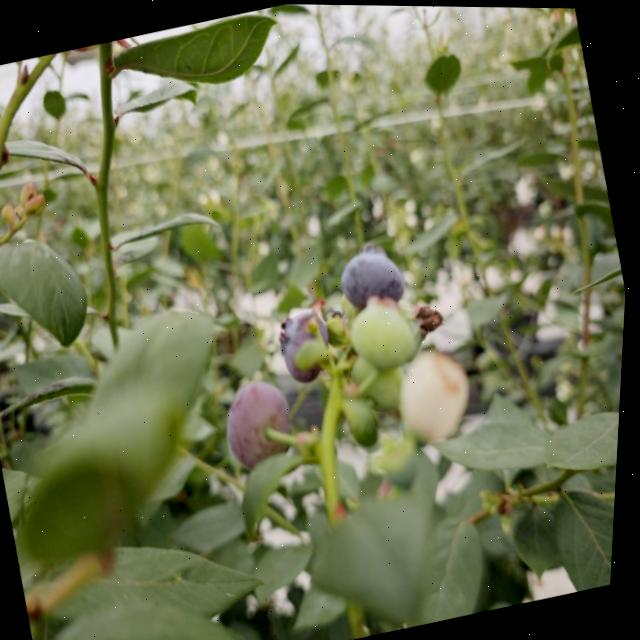RipeBlueBerry: (333, 237, 414, 310)
Semi-RipeBlueBerry: (220, 372, 309, 469), (269, 303, 346, 389)
UnripeBlueBerry: (344, 285, 442, 374)
